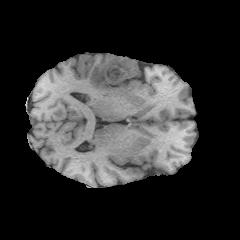glioma: (89, 54, 149, 91)
